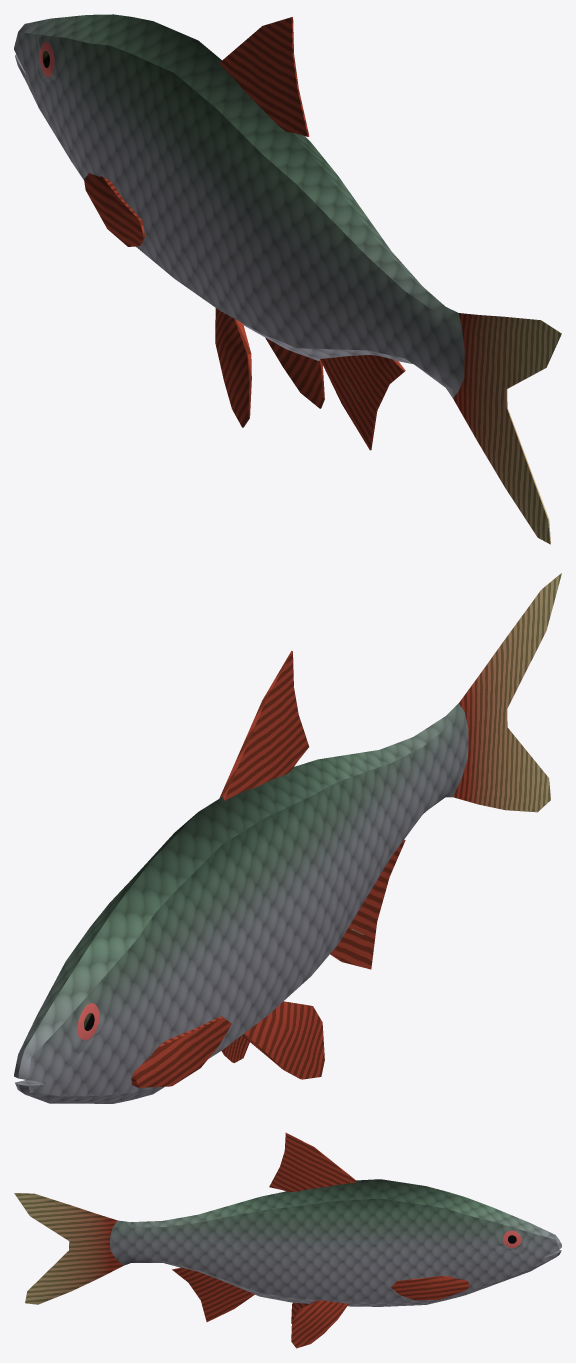
Rendered from ploc.fbx.
3 views of the same model, one above another, from view 1: azimuth 30°, elevation 25°; view 2: azimuth 150°, elevation 25°; view 3: azimuth 270°, elevation 25° (orthographic). The views are drawn at different scales.
Parts seen in each view (by area): view 1: ploc; view 2: ploc; view 3: ploc.
Part boxes in pixels (<box>): ploc: <box>14,14,561,544</box>; ploc: <box>14,573,561,1103</box>; ploc: <box>14,1132,561,1348</box>.
Size of the model in its own units: 90.38 by 399 by 961.
